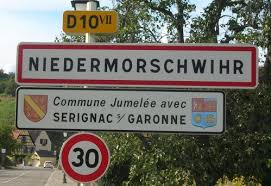Speed_limit_30km: (60, 132, 110, 182)
